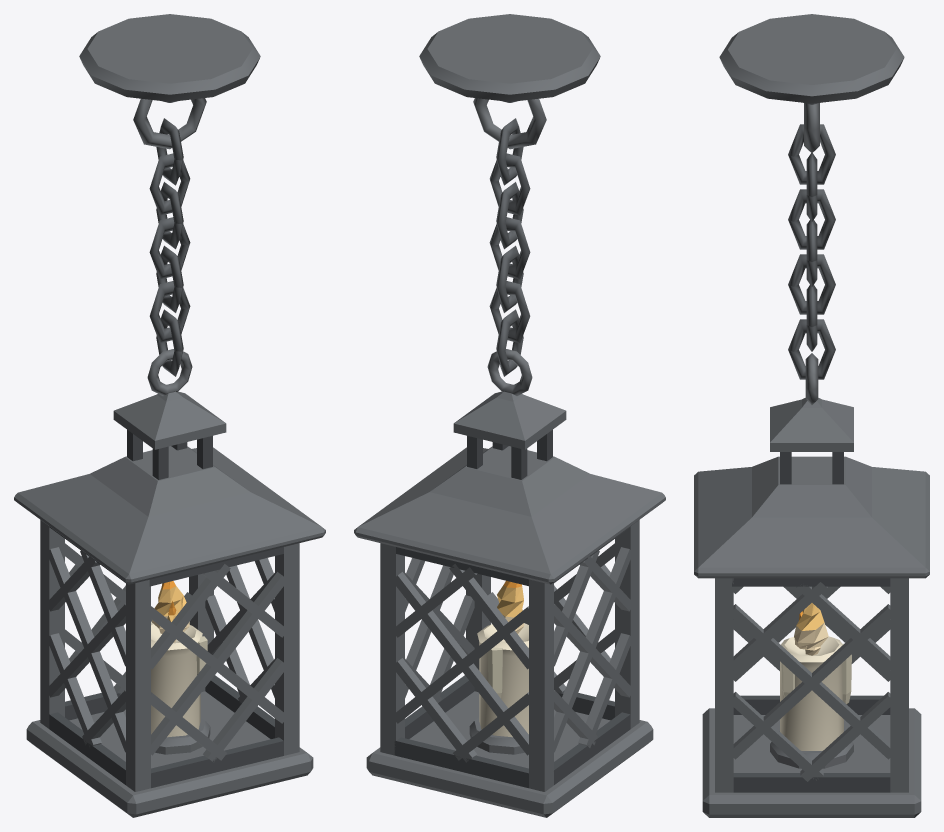
The model's file is SM_LPD_Light_LanternHanging_01.fbx.
The picture shows the model from 3 angles, left to right: view 1: azimuth 30°, elevation 25°; view 2: azimuth 150°, elevation 25°; view 3: azimuth 270°, elevation 25°; orthographic projection.
Parts seen in each view (by area): view 1: SM_LPD_Light_LanternHanging_01; view 2: SM_LPD_Light_LanternHanging_01; view 3: SM_LPD_Light_LanternHanging_01.
Part boxes in pixels (x1,y1,x2,y2): SM_LPD_Light_LanternHanging_01: [14, 14, 325, 817]; SM_LPD_Light_LanternHanging_01: [354, 14, 665, 817]; SM_LPD_Light_LanternHanging_01: [694, 14, 929, 817].
Size of the model in its own units: 0.28 by 1 by 0.28.
